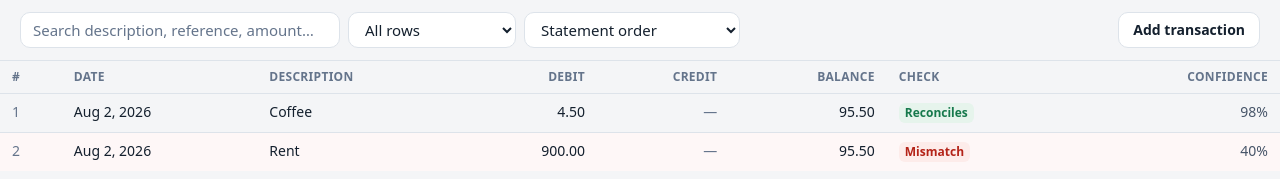
Test case: transactions table › filters to rows that need attention and hides deleted rows by default
The image size is (1280, 179).
Expected: the text "Coffee" is shown, x1=269 y1=102 x2=312 y2=121
Expected: the text "Old fee" is not shown
Select "Do not reconcile" in the dropdown named "All rows": (432, 30) x1=348 y1=12 x2=516 y2=48
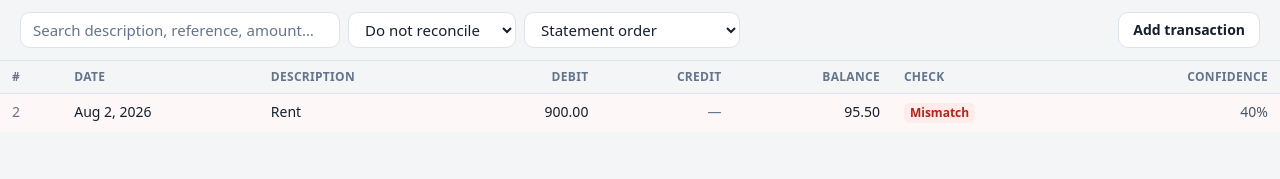
Expected: the text "Rent" is shown, x1=271 y1=102 x2=301 y2=121
Expected: the text "Coffee" is gone
Select "Deleted" in the dropdown named "All rows": (432, 30) x1=348 y1=12 x2=516 y2=48
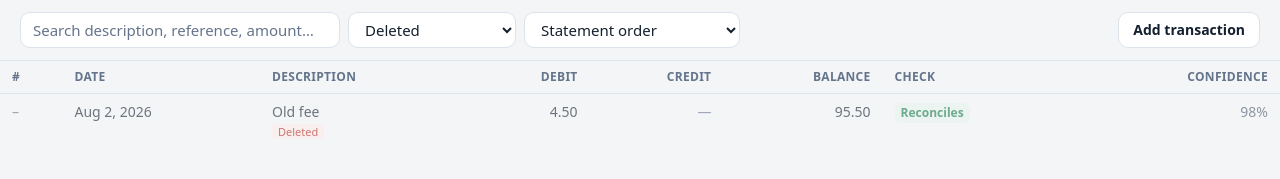
Expected: the text "Old fee" is shown, x1=272 y1=102 x2=319 y2=121
